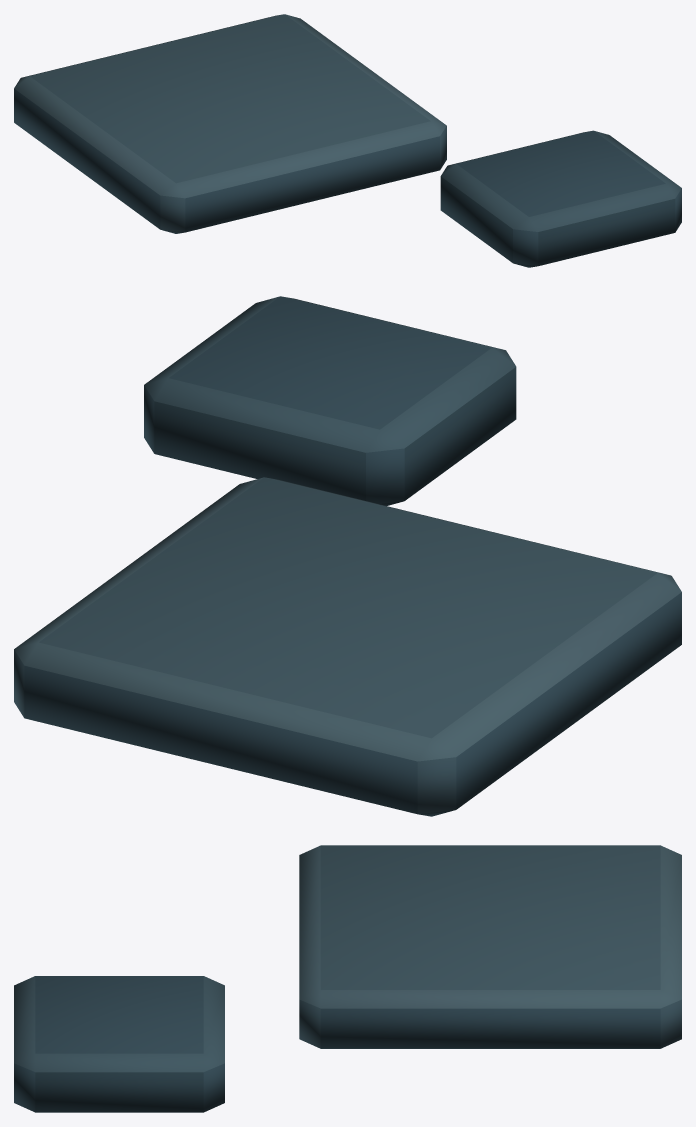
Rendered from stone_path_9.fbx.
3 renders of one model, top to bottom at view 1: azimuth 30°, elevation 25°; view 2: azimuth 150°, elevation 25°; view 3: azimuth 270°, elevation 25°, orthographic. The views are drawn at different scales.
Visible parts, largest first — view 1: stone_path_9; view 2: stone_path_9; view 3: stone_path_9.
Part boxes in pixels (box(x1,y1,x2,y2)): stone_path_9: box(14, 14, 681, 267); stone_path_9: box(14, 296, 681, 816); stone_path_9: box(14, 845, 681, 1112).
Bounding box in the file's own units: 150 × 18.28 × 188.
